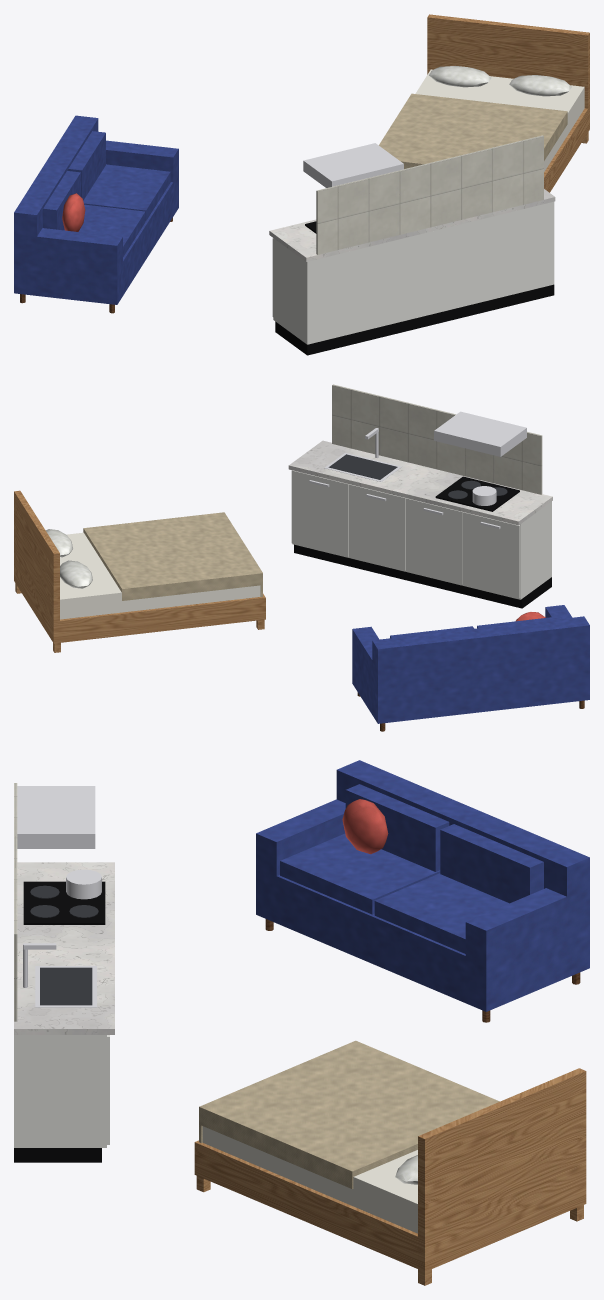
File: i_printed_dome_home.gltf
The picture shows the model from 3 angles, top to bottom: view 1: azimuth 30°, elevation 25°; view 2: azimuth 150°, elevation 25°; view 3: azimuth 270°, elevation 25°; orthographic projection. The views are drawn at different scales.
Parts seen in each view (by area): view 1: I_printed_dome_home; view 2: I_printed_dome_home; view 3: I_printed_dome_home.
Boxes of the visible parts, left/top/right/bottom form: I_printed_dome_home: left=14, top=14, right=589, bottom=355; I_printed_dome_home: left=14, top=384, right=589, bottom=731; I_printed_dome_home: left=14, top=760, right=589, bottom=1285.
Size of the model in its own units: 5.83 by 1.55 by 3.54.
Materials: 13 (8 with a texture image).
